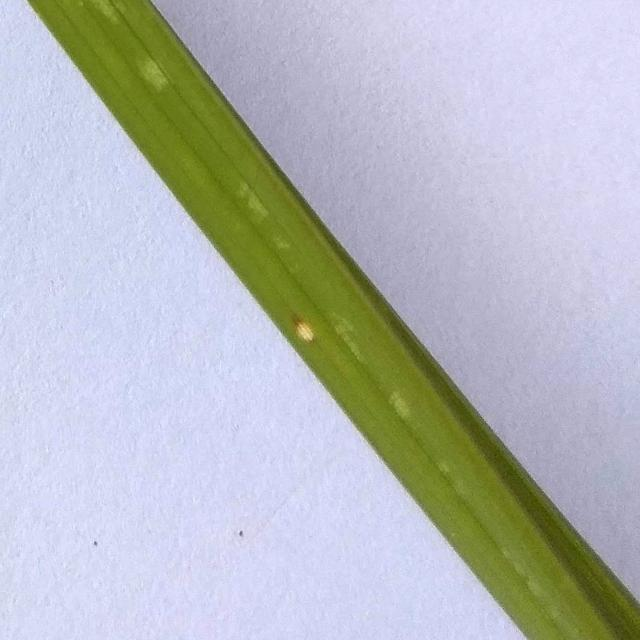Blast: (290, 316, 322, 343)
